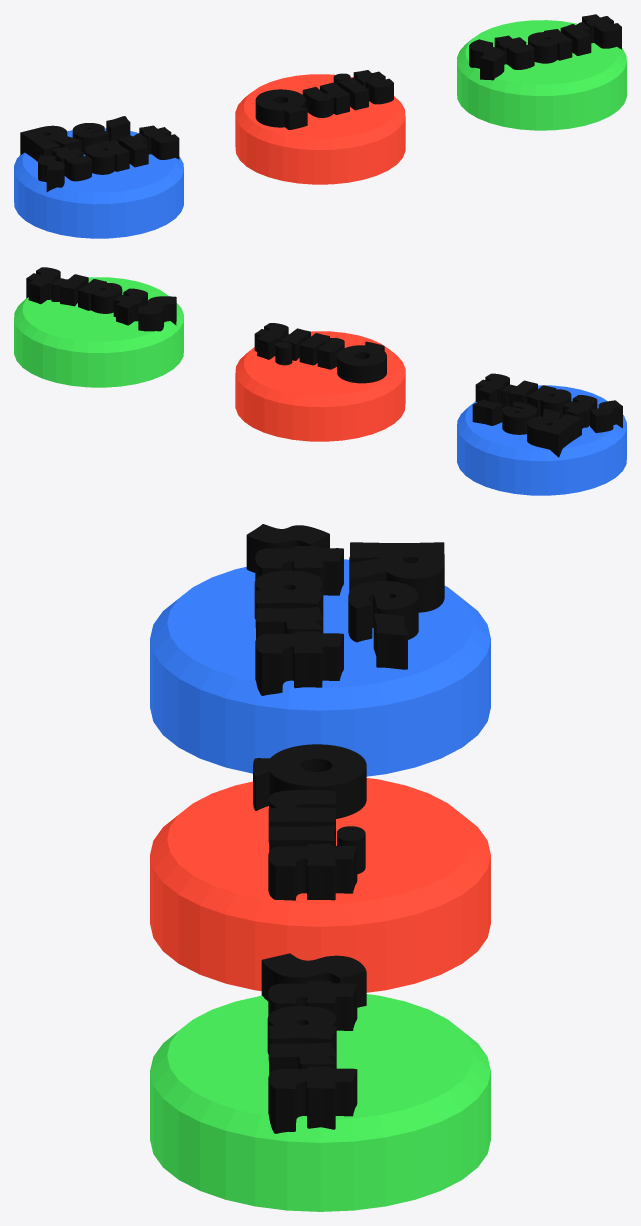
The model's file is buttons.fbx.
3 views of the same model, one above another, from view 1: azimuth 30°, elevation 25°; view 2: azimuth 150°, elevation 25°; view 3: azimuth 270°, elevation 25° (orthographic). The views are drawn at different scales.
Parts seen in each view (by area): view 1: Restart, Start, Quit; view 2: Restart, Start, Quit; view 3: Start, Restart, Quit.
Boxes of the visible parts, box(x1,y1,x2,y2) form: Restart: box(14, 116, 183, 238); Start: box(457, 14, 626, 130); Quit: box(235, 70, 405, 184); Restart: box(457, 373, 626, 495); Start: box(14, 267, 183, 387); Quit: box(235, 323, 405, 441); Start: box(150, 953, 490, 1211); Restart: box(150, 524, 490, 776); Quit: box(150, 744, 490, 992).
Size of the model in its own units: 800 by 76.79 by 200.
